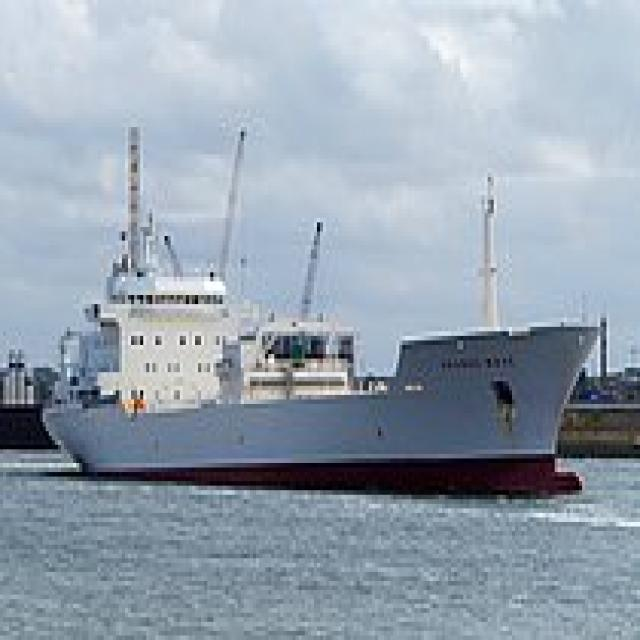Tanker: (36, 214, 606, 491)
